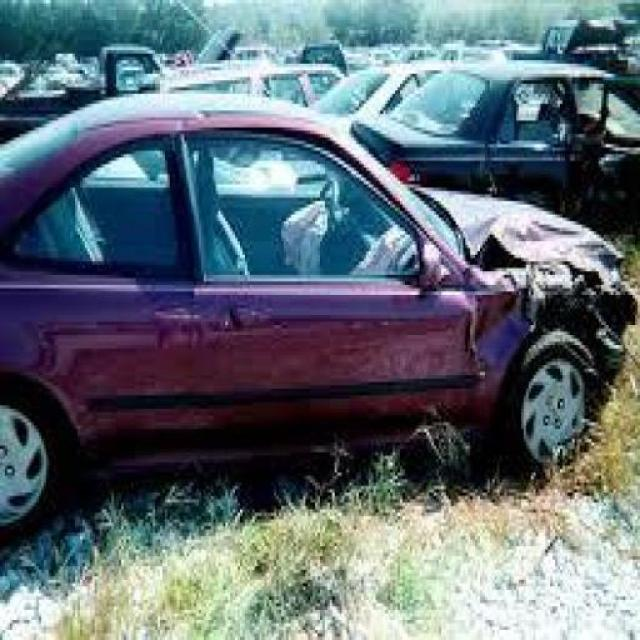crush: (420, 180, 640, 405)
